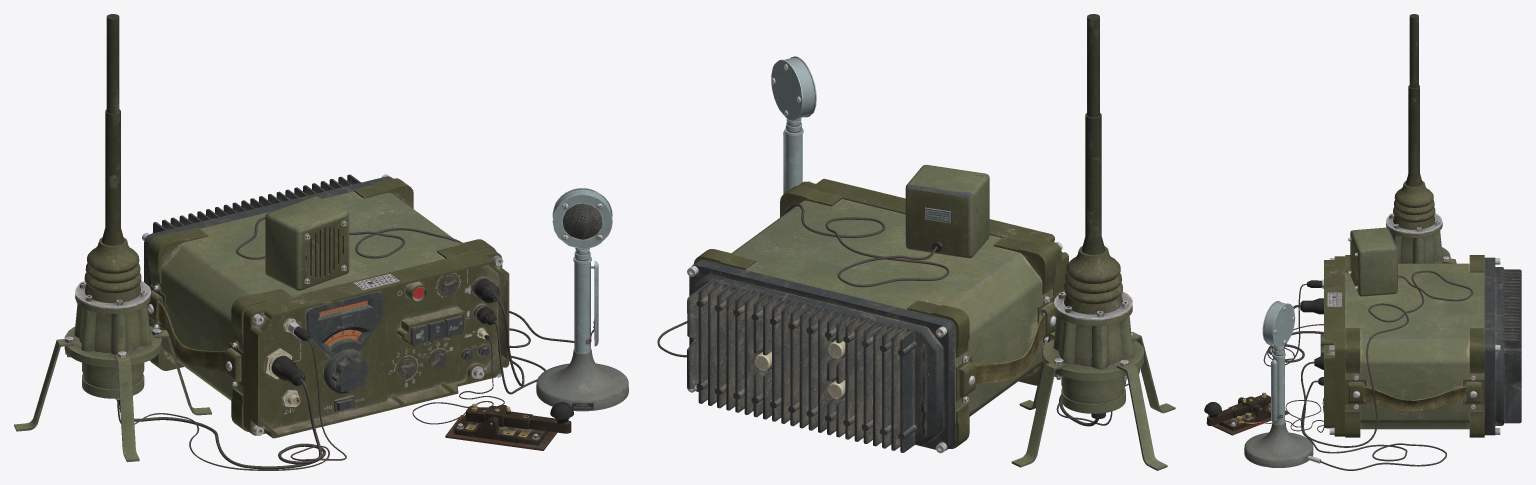
File: vintage_radio_transceiver.glb
3 views of the same model, side by side, from view 1: azimuth 30°, elevation 25°; view 2: azimuth 150°, elevation 25°; view 3: azimuth 270°, elevation 25° (orthographic). The views are drawn at different scales.
Visible parts, largest first — view 1: vintage_radio_transceiver, vintage_radio_transceiver_cable; view 2: vintage_radio_transceiver, vintage_radio_transceiver_cable; view 3: vintage_radio_transceiver, vintage_radio_transceiver_cable.
Part boxes in pixels (x1,y1,x2,y2): vintage_radio_transceiver: [142, 174, 509, 438]; vintage_radio_transceiver_cable: [14, 14, 628, 470]; vintage_radio_transceiver: [687, 178, 1068, 453]; vintage_radio_transceiver_cable: [657, 14, 1175, 470]; vintage_radio_transceiver: [1320, 255, 1521, 437]; vintage_radio_transceiver_cable: [1204, 14, 1473, 470].
Size of the model in its own units: 0.574 by 0.4344 by 0.4131.
Materials: 2 (2 with a texture image).
